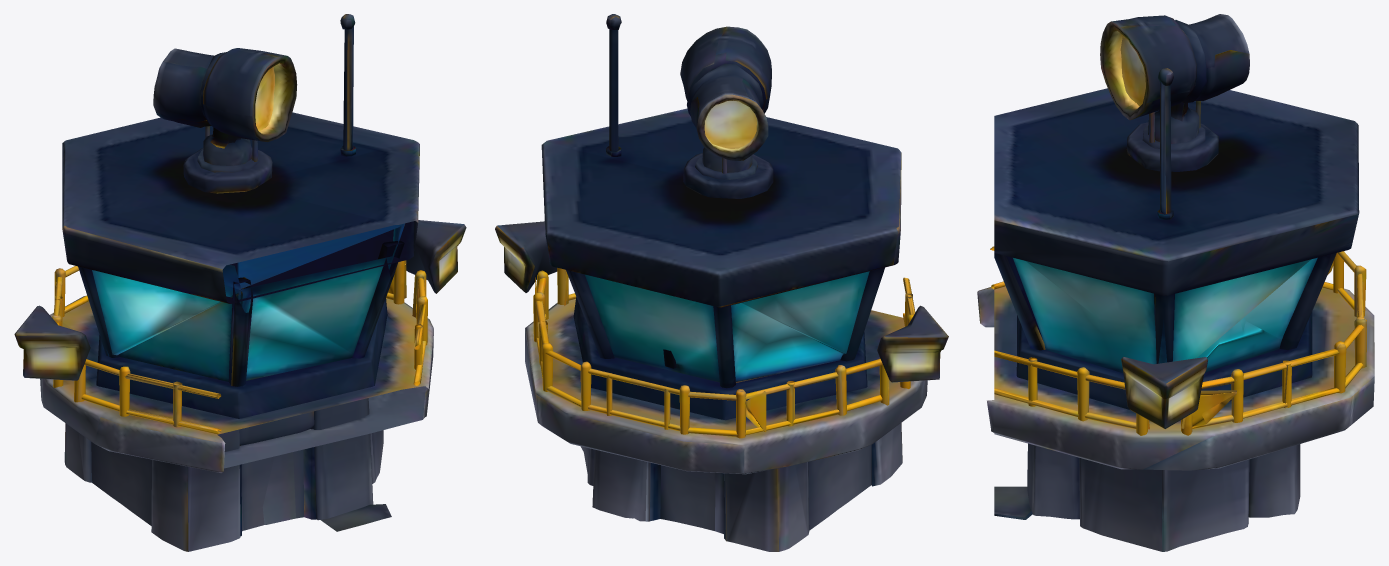
Rendered from guard-tower.glb.
3 renders of one model, left to right at view 1: azimuth 30°, elevation 25°; view 2: azimuth 150°, elevation 25°; view 3: azimuth 270°, elevation 25°, orthographic. The views are drawn at different scales.
Parts seen in each view (by area): view 1: meshy-guard-tower; view 2: meshy-guard-tower; view 3: meshy-guard-tower.
Boxes of the visible parts, x1=… form: meshy-guard-tower: x1=14, y1=14, x2=466, y2=551; meshy-guard-tower: x1=495, y1=14, x2=948, y2=551; meshy-guard-tower: x1=977, y1=14, x2=1374, y2=551.
Bounding box in the file's own units: 3.25 × 3 × 2.33.
Materials: 1 (1 with a texture image).
